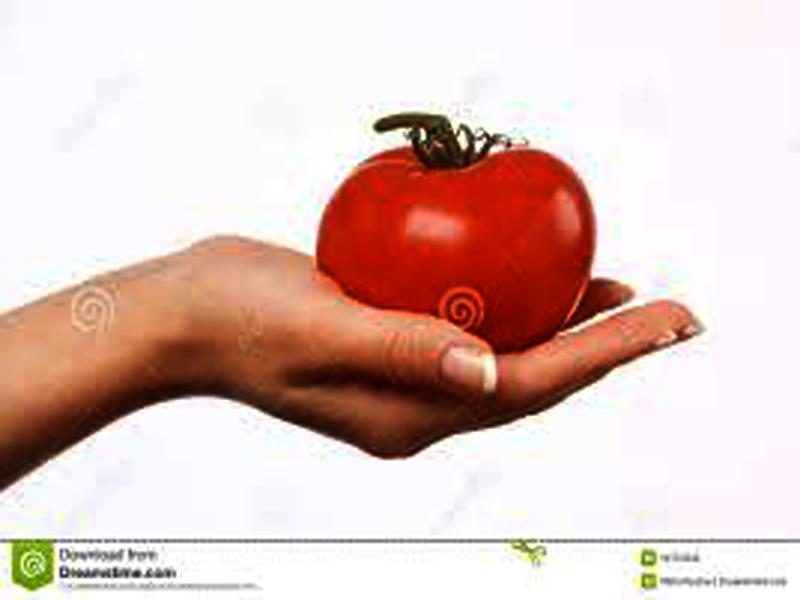Tomato: (316, 147, 594, 351)
